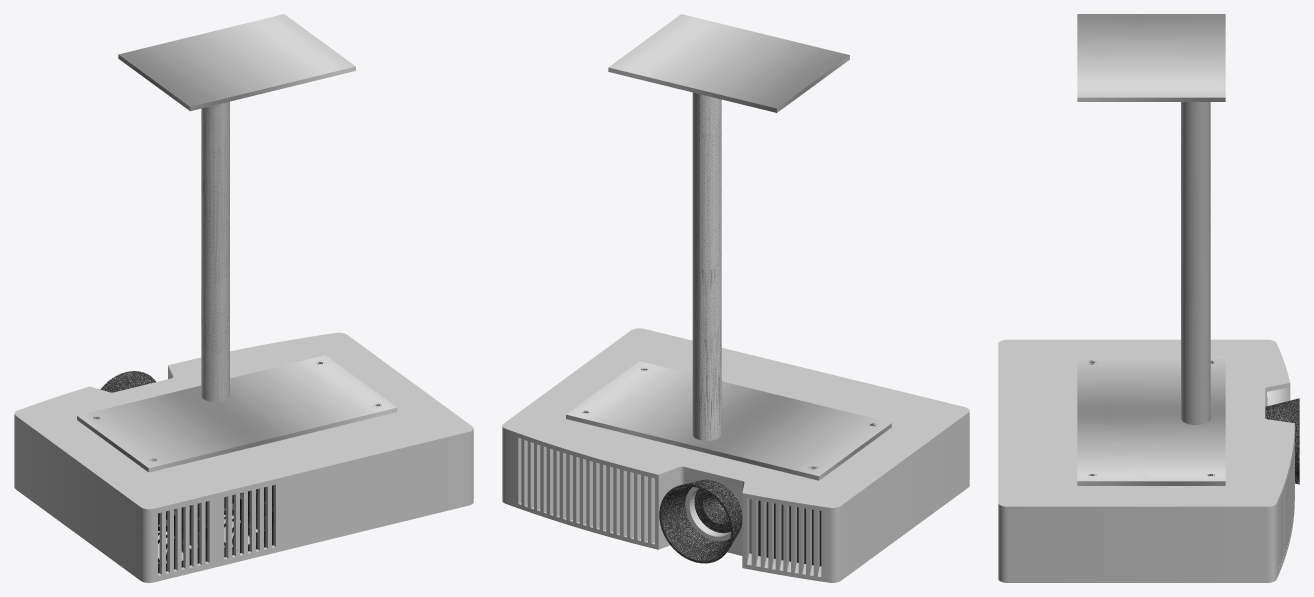
The picture shows the model from 3 angles, left to right: view 1: azimuth 30°, elevation 25°; view 2: azimuth 150°, elevation 25°; view 3: azimuth 270°, elevation 25°; orthographic projection. The views are drawn at different scales.
Parts seen in each view (by area): view 1: group_0 (×4), Projector (×3); view 2: group_0 (×3), Projector (×3); view 3: group_0 (×2), Projector (×3).
Boxes of the visible parts, bbox=[...] form: group_0 (×4): bbox=[14, 332, 473, 582]; Projector (×3): bbox=[77, 14, 397, 472]; group_0 (×3): bbox=[502, 328, 969, 582]; Projector (×3): bbox=[566, 14, 891, 480]; group_0 (×2): bbox=[998, 339, 1299, 582]; Projector (×3): bbox=[1077, 14, 1225, 485].
Size of the model in its own units: 15.75 by 12.01 by 19.54.
Materials: 6 (2 with a texture image).
